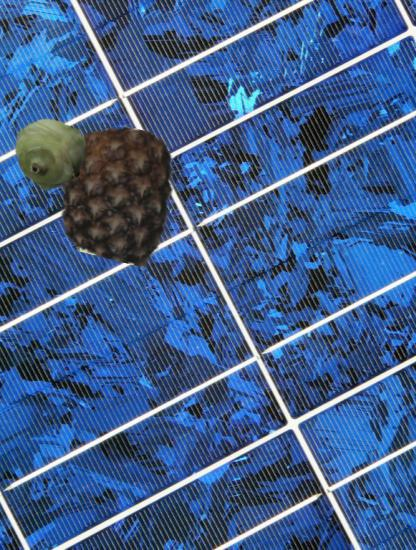Kohlrabi: (11, 115, 87, 191)
Pineapple: (51, 126, 184, 259)
